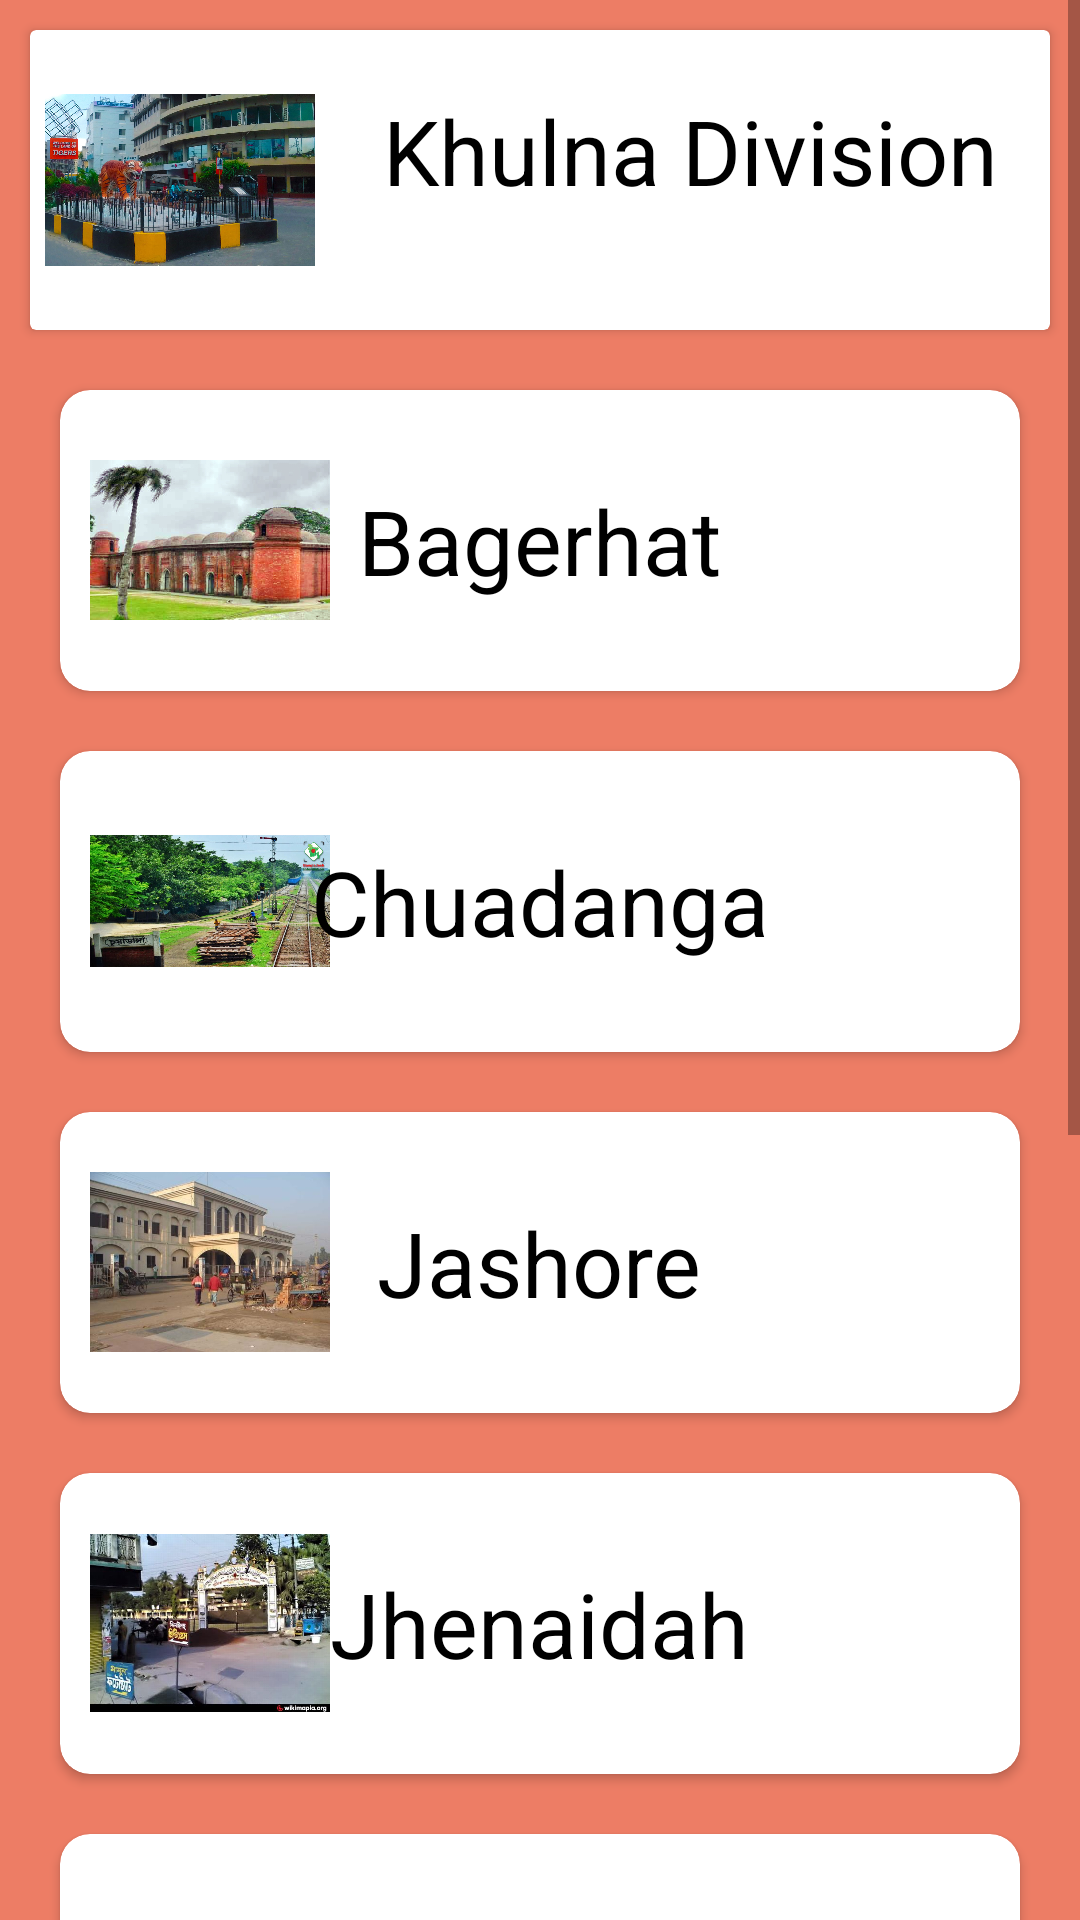

Icons on this 1080 x 1920 Android screen, each with the point to tap as point (x, y):
jessorecity: point (210, 1262)
